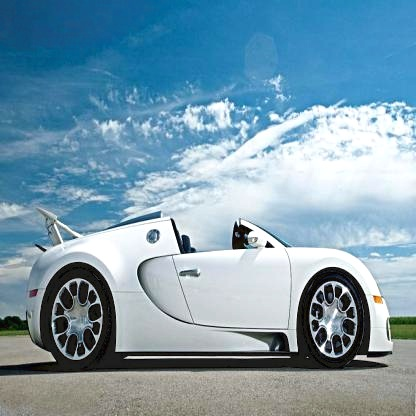Vehicle: (28, 209, 393, 371)
